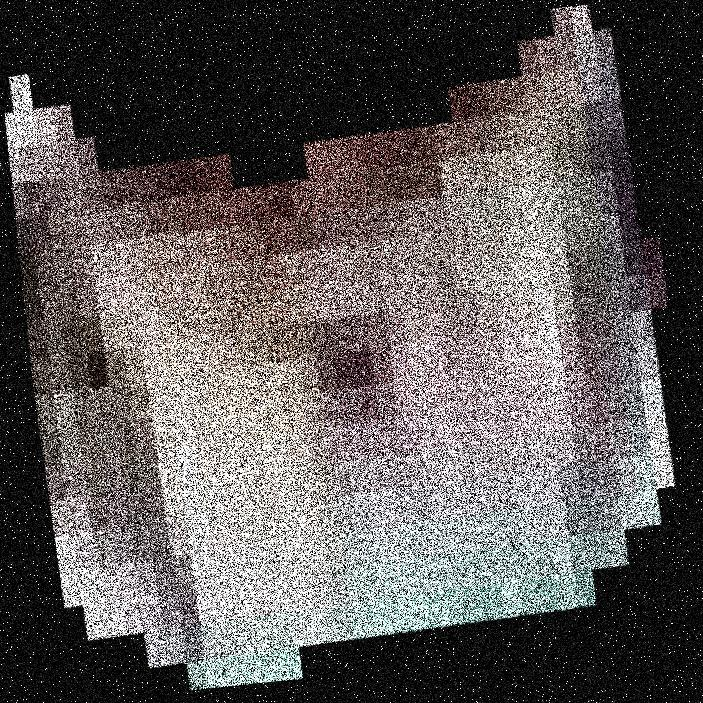Oculos: (69, 0, 644, 702)
